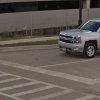Crosswalk: (4, 65, 92, 100)
